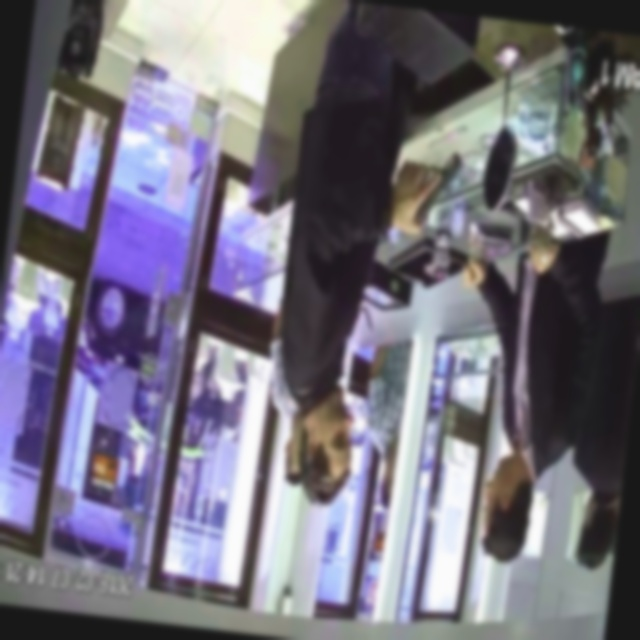gun: (381, 129, 470, 259)
